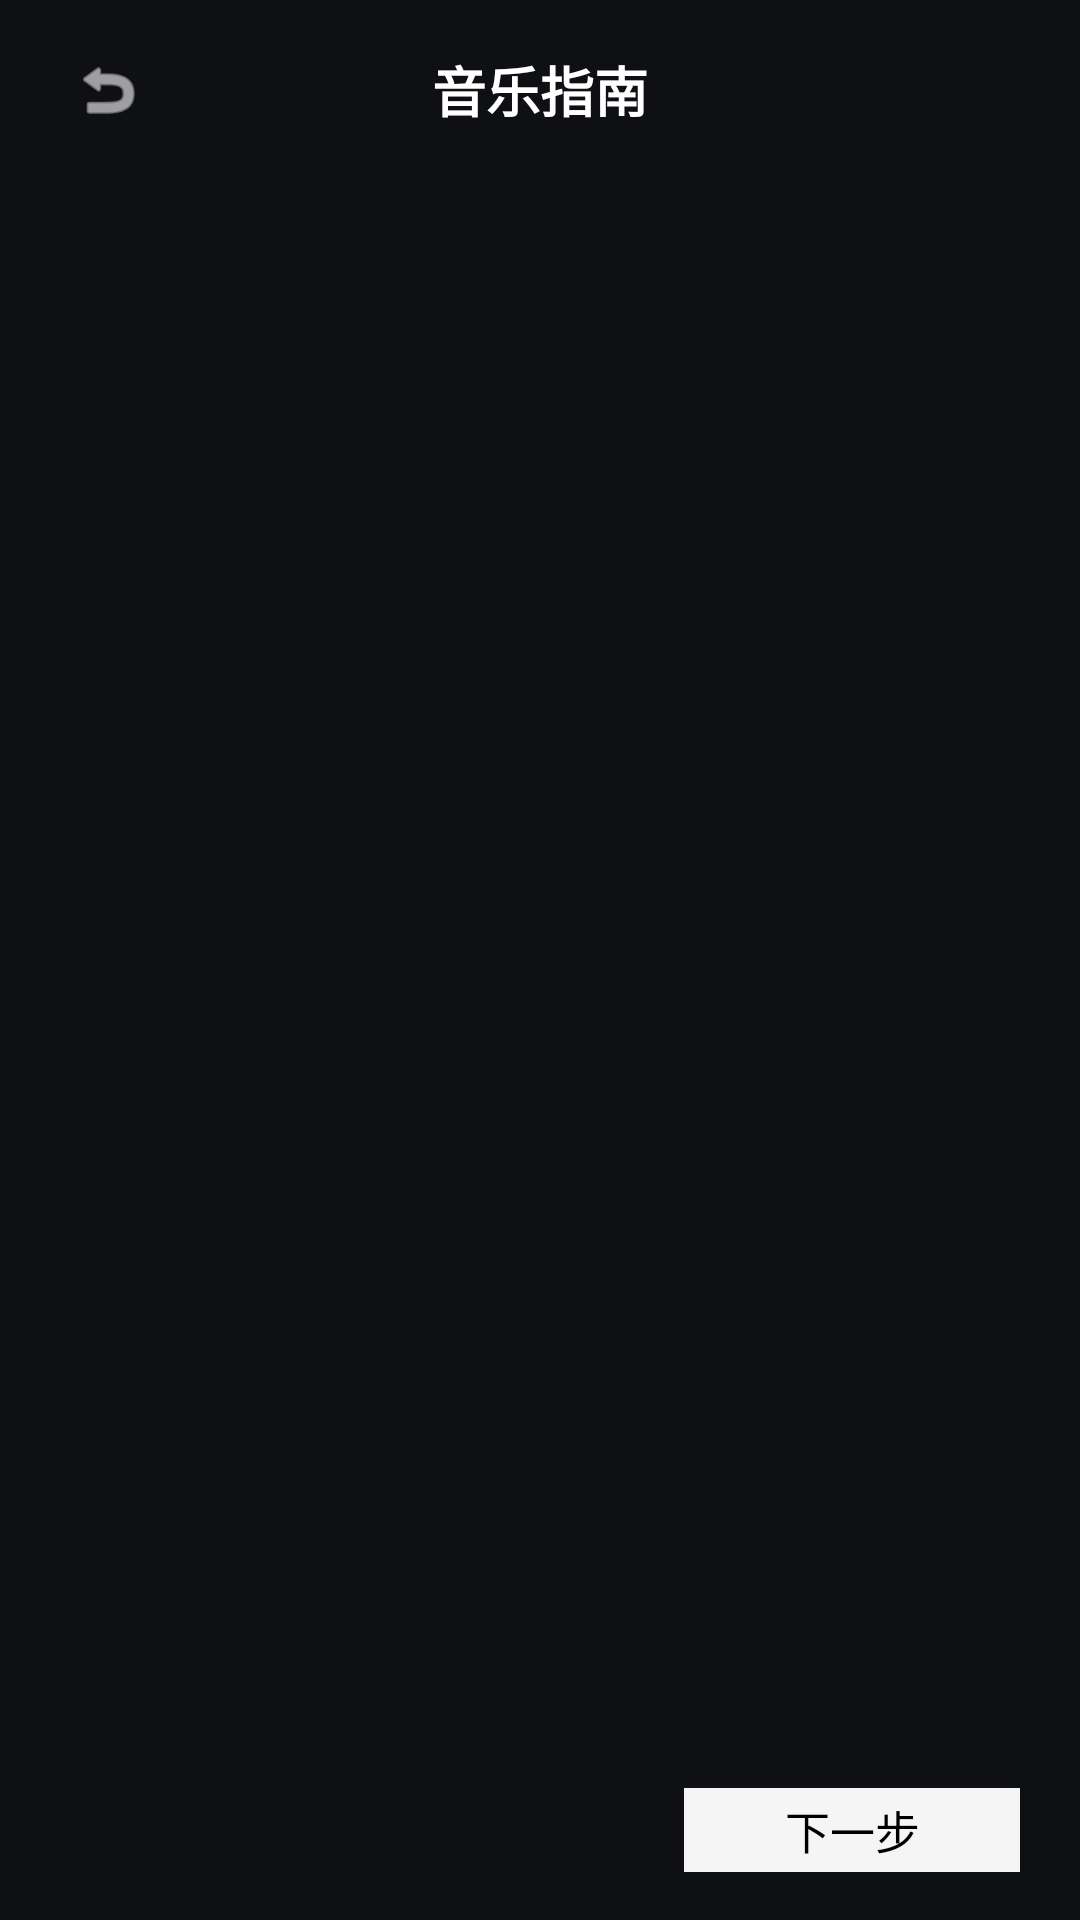

Icons on this 1080 x 1920 Android screen, each with the point to tap as point (x, y):
revert: point (109, 90)
